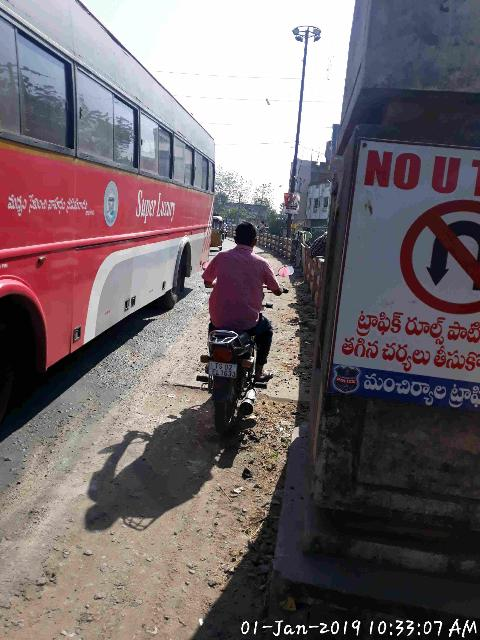motor: (198, 331, 268, 436)
non-helm: (236, 223, 259, 249)
